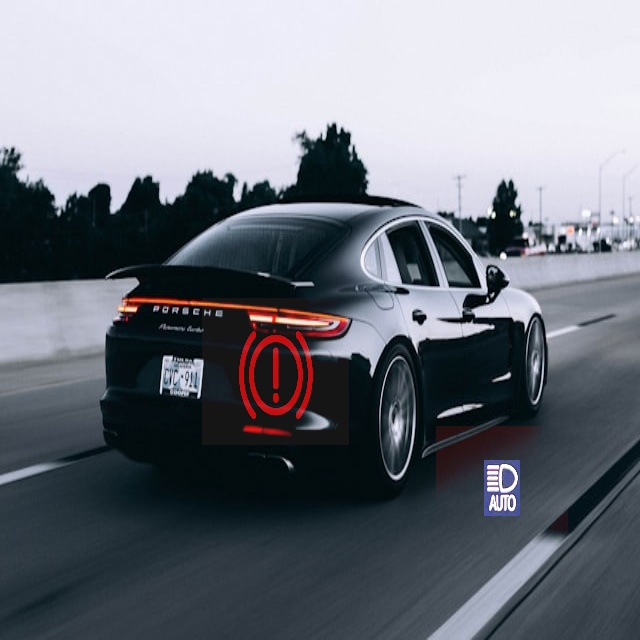symbol: (202, 298, 349, 445), (436, 426, 568, 558)
